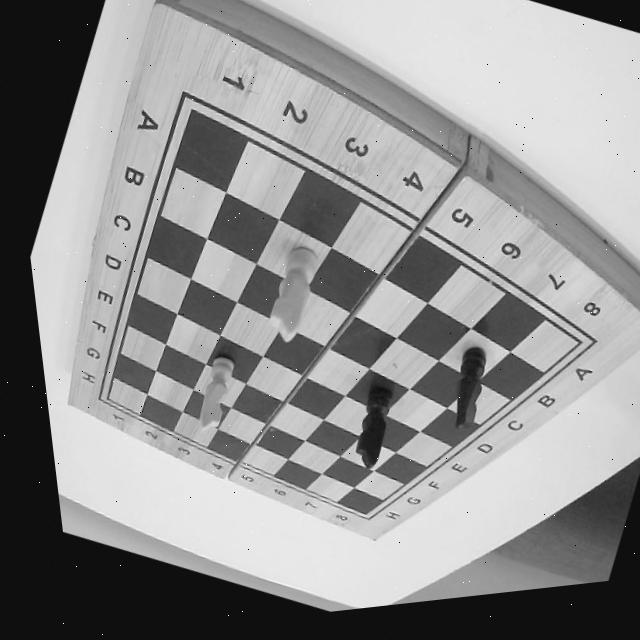chessboard: (90, 113, 572, 526)
